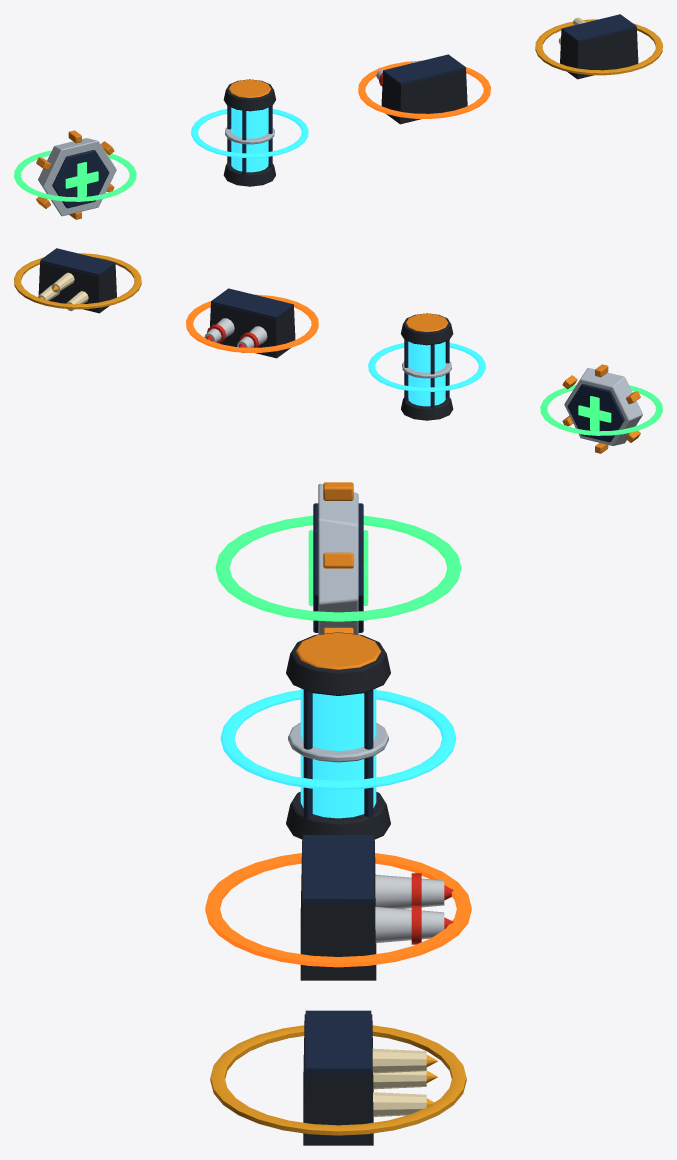
File: pickups.glb
3 views of the same model, one above another, from view 1: azimuth 30°, elevation 25°; view 2: azimuth 150°, elevation 25°; view 3: azimuth 270°, elevation 25° (orthographic). The views are drawn at different scales.
Parts seen in each view (by area): view 1: Pickup_Energy, Pickup_Missiles, Pickup_Armor, Pickup_Mini; view 2: Pickup_Energy, Pickup_Missiles, Pickup_Armor, Pickup_Mini; view 3: Pickup_Energy, Pickup_Missiles, Pickup_Mini, Pickup_Armor.
Part boxes in pixels (box(x1,y1,x2,y2)): Pickup_Energy: box(191, 79, 308, 186); Pickup_Missiles: box(358, 54, 490, 124); Pickup_Armor: box(14, 130, 136, 219); Pickup_Mini: box(535, 14, 662, 79); Pickup_Energy: box(368, 313, 485, 420); Pickup_Missiles: box(186, 288, 318, 358); Pickup_Armor: box(540, 364, 662, 453); Pickup_Mini: box(14, 248, 141, 313); Pickup_Energy: box(220, 632, 456, 839); Pickup_Missiles: box(205, 835, 471, 980); Pickup_Mini: box(210, 1010, 466, 1145); Pickup_Armor: box(215, 482, 461, 634).
Size of the model in its own units: 5.8 by 0.7758 by 1.06.
